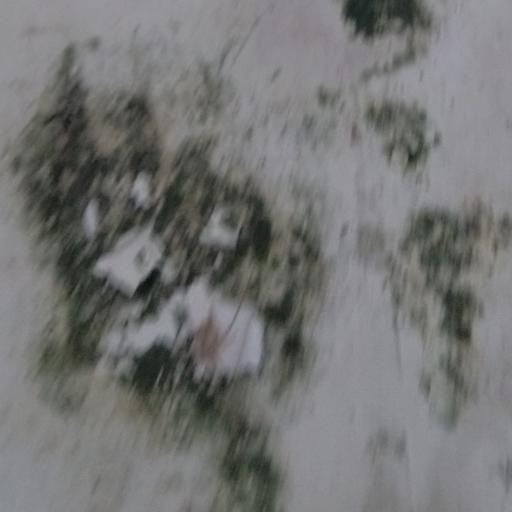algae: (10, 50, 327, 512)
